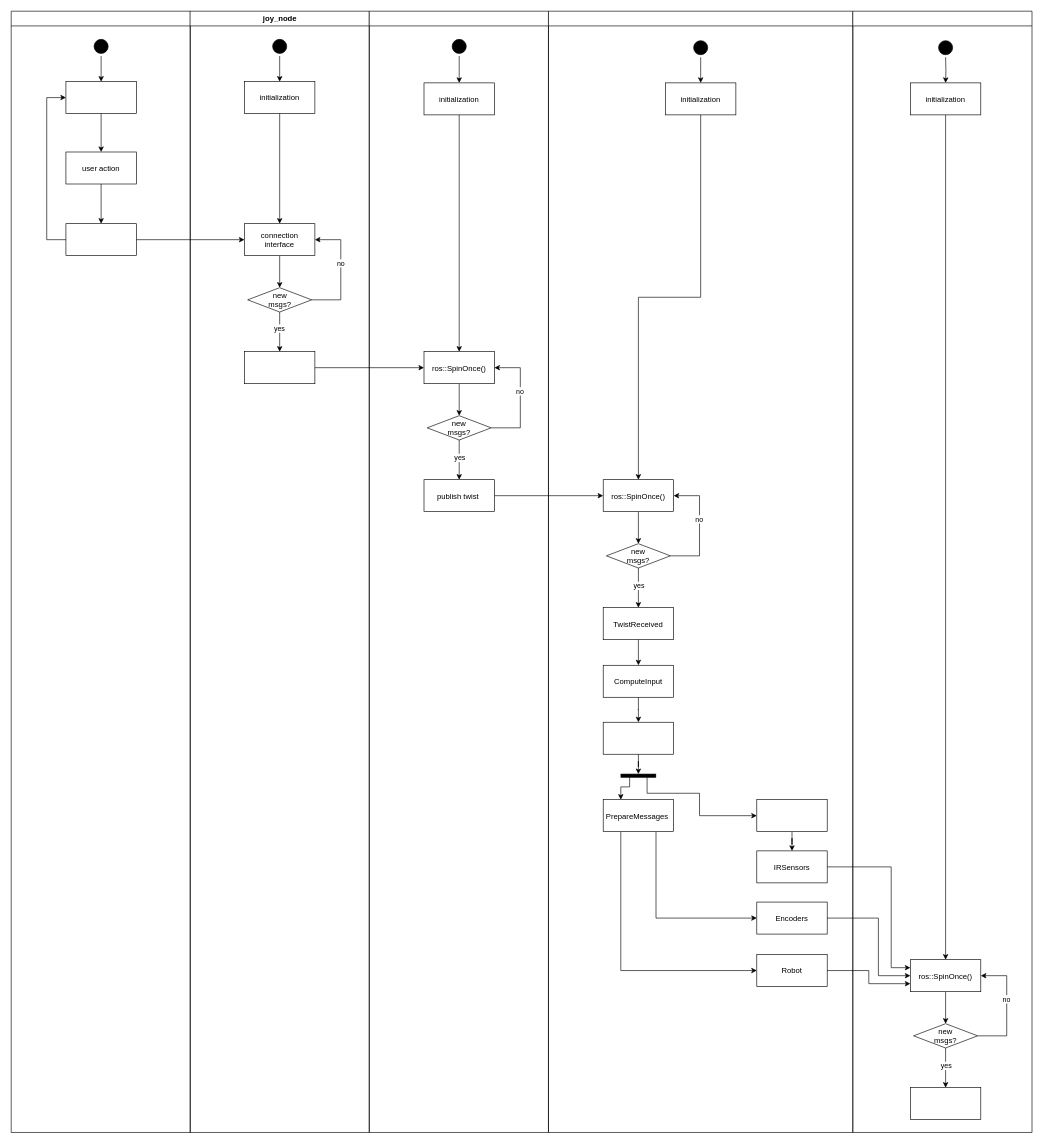
The diagram is 1043 pixels wide and 1144 high, and some of its shapes have lost their labels. Here are the shapes that lost their labels. From the top down, the box of each, then its label:
(65, 81, 136, 114): idle
(65, 223, 136, 256): post command
(244, 351, 315, 384): joy state publisher
(11, 11, 190, 1132): joystick
(369, 11, 548, 1132): compute_twist
(548, 11, 853, 1132): robot_2_0
(852, 11, 1032, 1132): rosbag/record
(603, 722, 674, 754): PerformMotion
(756, 799, 827, 832): CheckSensorStatus
(910, 1087, 981, 1120): save in a file
